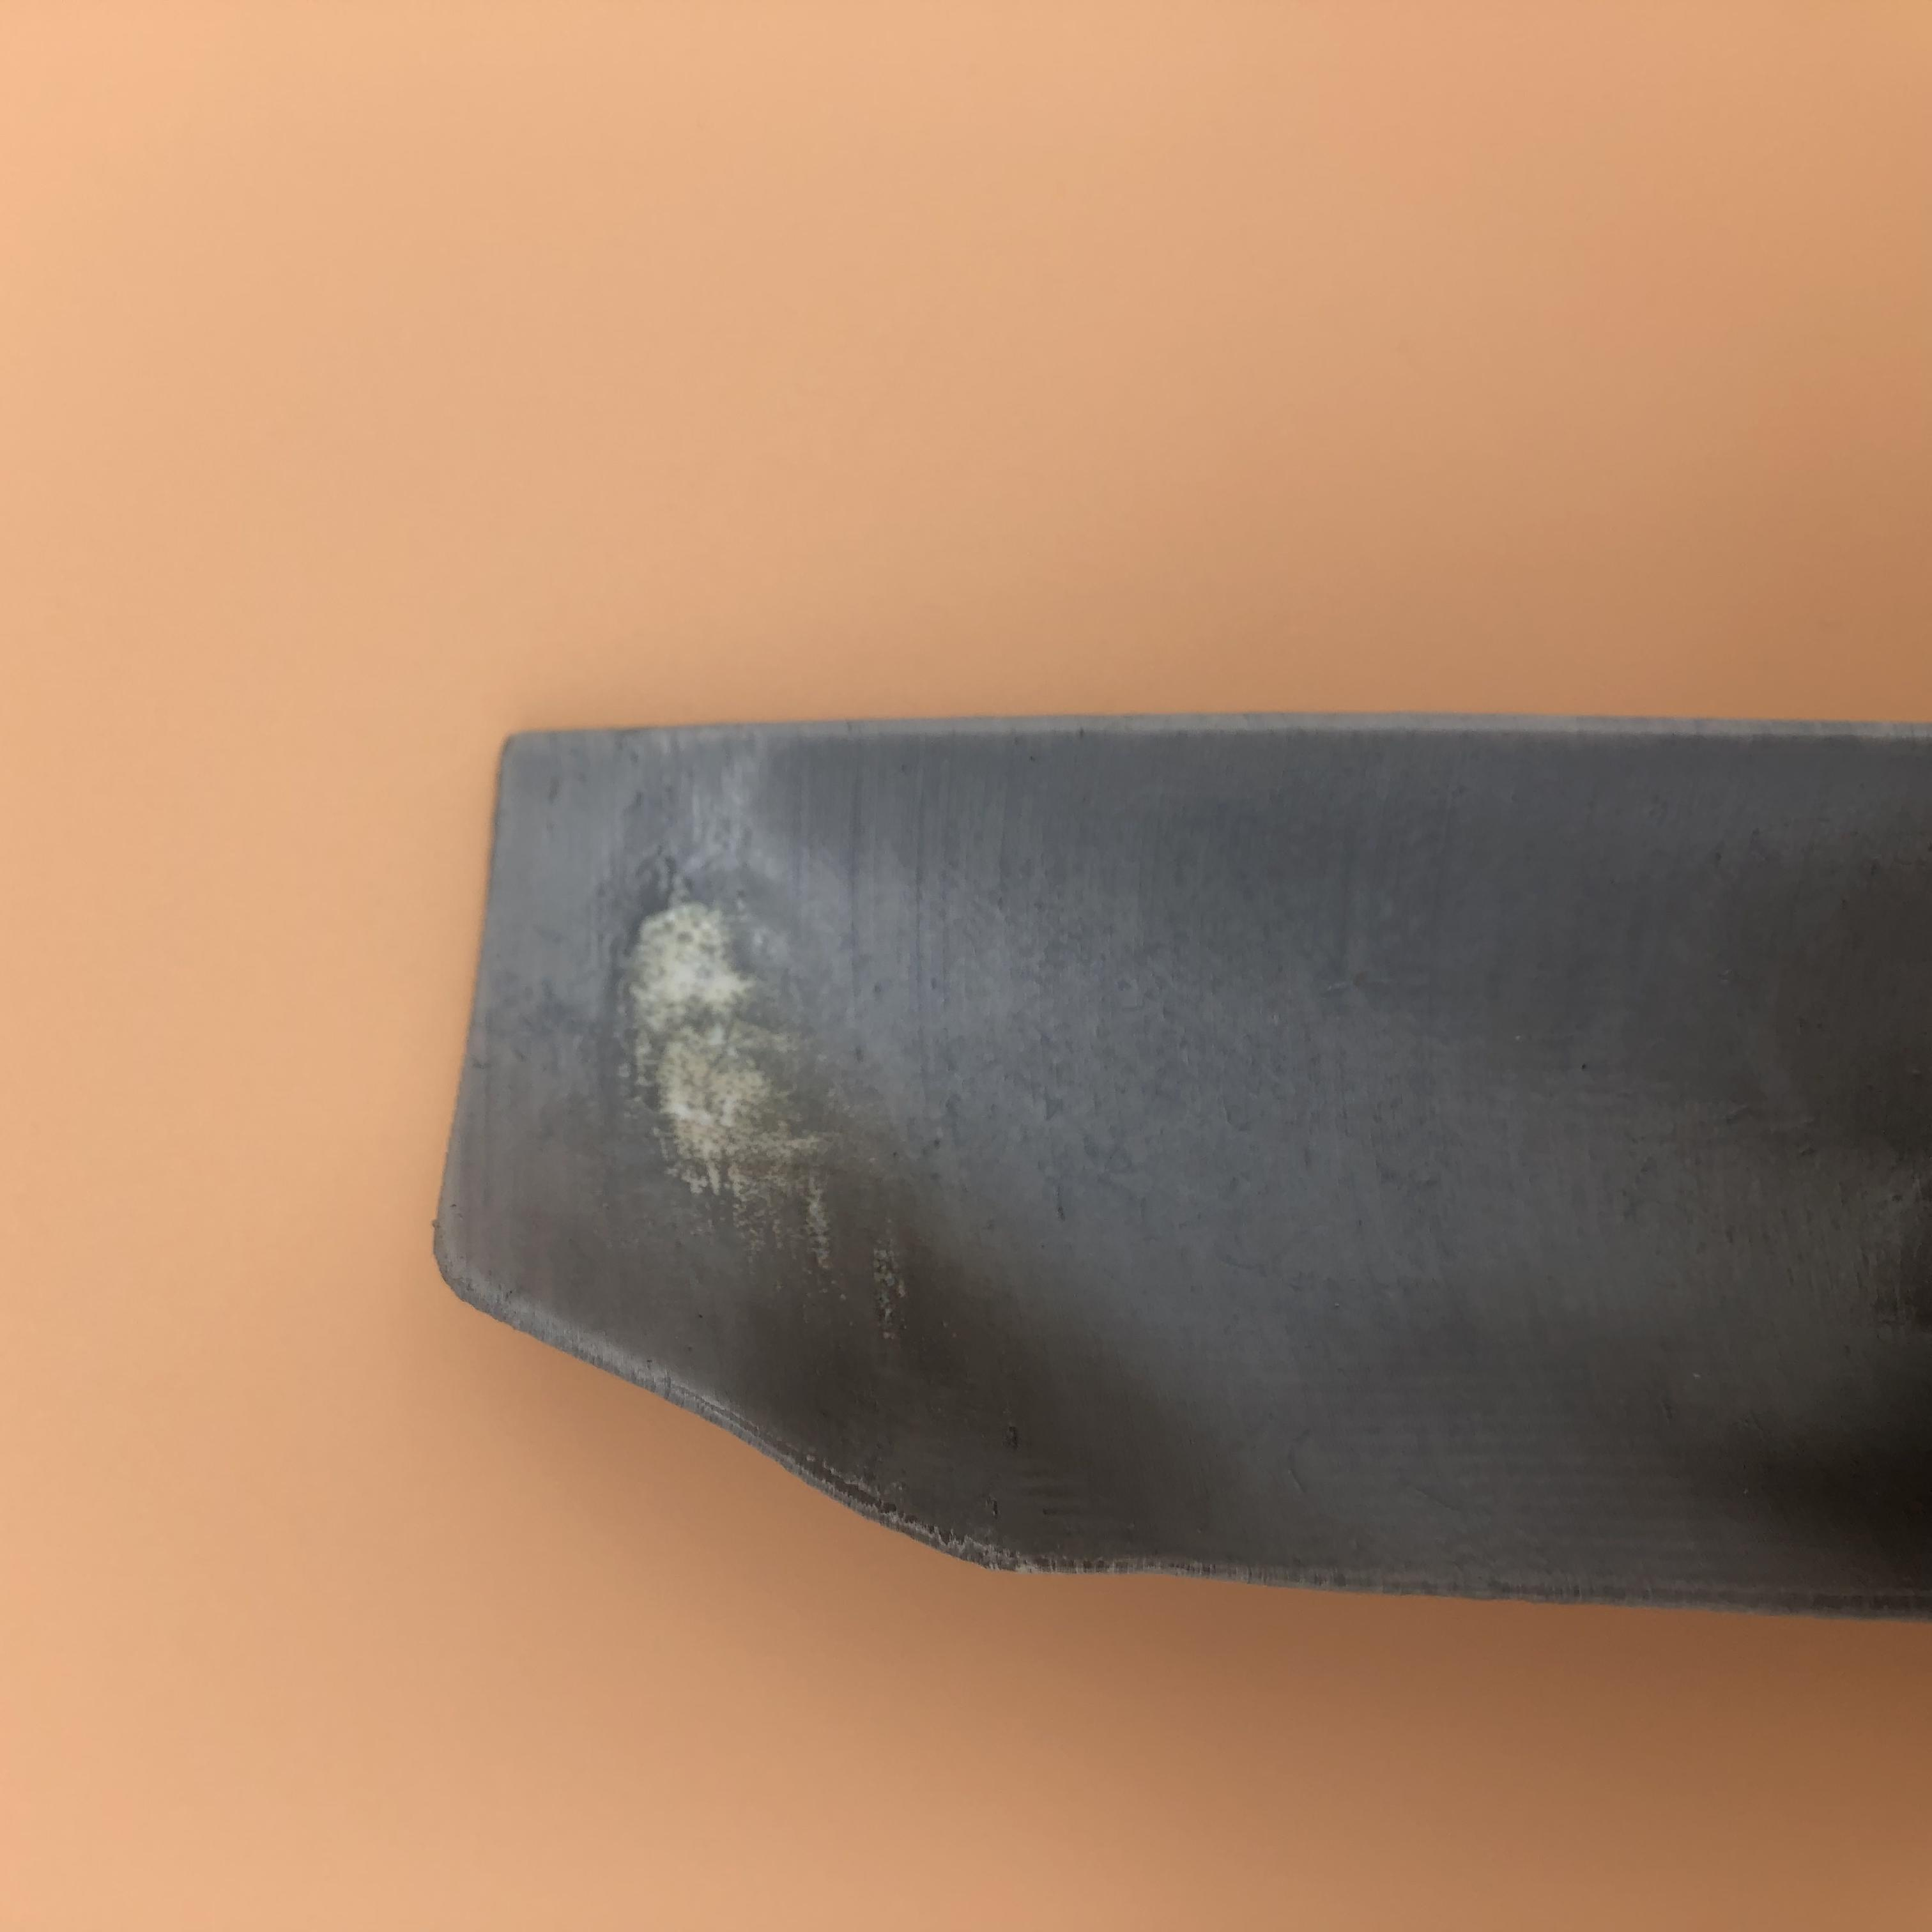ablation: (607, 858, 1205, 1534), (1736, 893, 1932, 1578)
